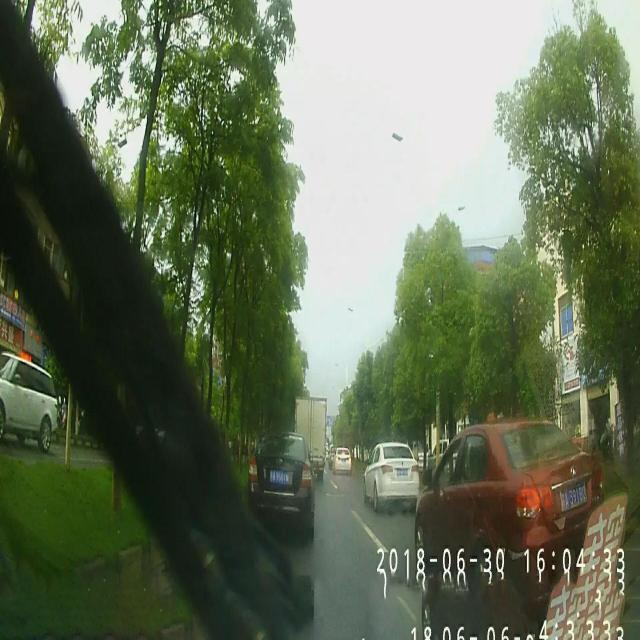car: (414, 425, 604, 606), (246, 433, 314, 532), (363, 442, 419, 508), (293, 394, 327, 479), (332, 446, 352, 475)
